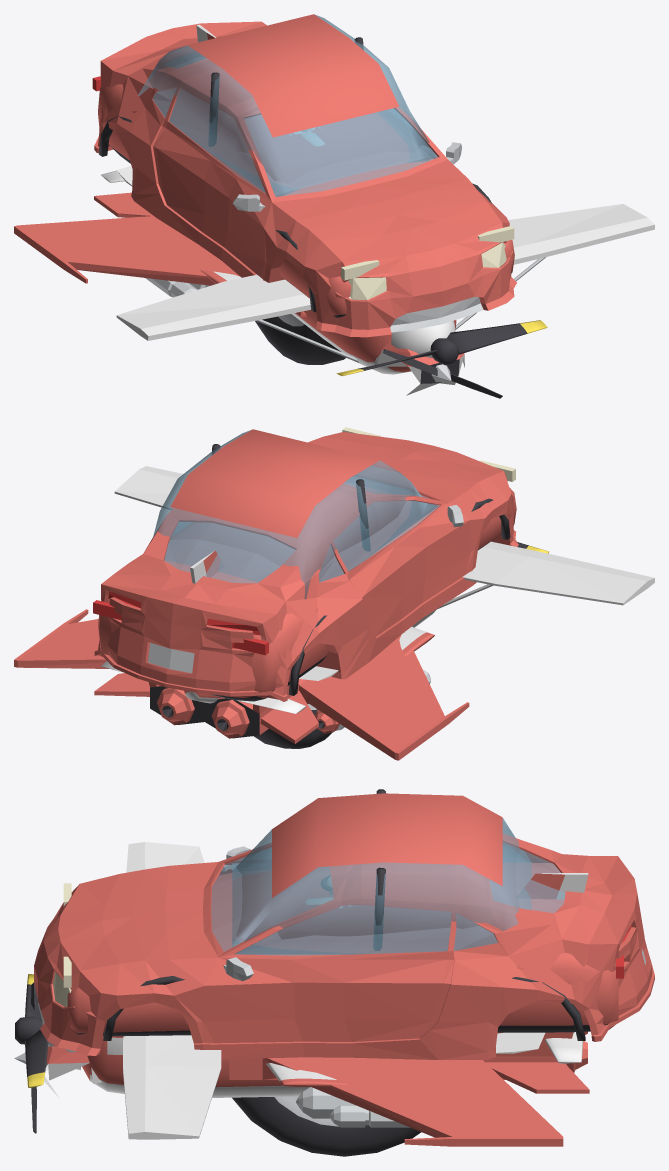
The model's file is models.glb.
3 renders of one model, top to bottom at view 1: azimuth 30°, elevation 25°; view 2: azimuth 150°, elevation 25°; view 3: azimuth 270°, elevation 25°, orthographic. The views are drawn at different scales.
Parts seen in each view (by area): view 1: CarBody, CCabin, CBody, JWingL, P6WingL, P6WingR, Prop, Wheel, P6Body, Body, Nose, P6Prop; view 2: CarBody, CCabin, CBody, JWingL, P6WingL, JWingR, JBody, P6WingR, Wheel, P6Body, HStab, WingL; view 3: CarBody, CCabin, CBody, JWingR, P6WingR, Wheel, Body, P6Body, Prop, P6WingL, WingR, JBody (+1 smaller).
Boxes of the visible parts, x1=… form: CarBody: x1=94, y1=21, x2=516, y2=337; CCabin: x1=138, y1=14, x2=436, y2=196; CBody: x1=92, y1=76, x2=514, y2=317; JWingL: x1=14, y1=192, x2=306, y2=316; P6WingL: x1=116, y1=165, x2=310, y2=340; P6WingR: x1=508, y1=204, x2=654, y2=264; Prop: x1=336, y1=320, x2=547, y2=376; Wheel: x1=255, y1=314, x2=345, y2=364; P6Body: x1=196, y1=24, x2=545, y2=395; Body: x1=291, y1=310, x2=456, y2=374; Nose: x1=391, y1=321, x2=455, y2=357; P6Prop: x1=383, y1=349, x2=502, y2=398; CarBody: x1=94, y1=432, x2=518, y2=701; CCabin: x1=153, y1=429, x2=437, y2=599; CBody: x1=93, y1=427, x2=516, y2=701; JWingL: x1=252, y1=632, x2=469, y2=760; P6WingL: x1=299, y1=541, x2=654, y2=680; JWingR: x1=14, y1=609, x2=156, y2=712; JBody: x1=148, y1=679, x2=306, y2=738; P6WingR: x1=114, y1=466, x2=186, y2=509; Wheel: x1=253, y1=704, x2=331, y2=748; P6Body: x1=190, y1=550, x2=493, y2=609; HStab: x1=101, y1=661, x2=305, y2=713; WingL: x1=399, y1=626, x2=434, y2=656; CarBody: x1=34, y1=833, x2=654, y2=1059; CCabin: x1=232, y1=789, x2=531, y2=954; CBody: x1=63, y1=862, x2=623, y2=1040; JWingR: x1=229, y1=1056, x2=589, y2=1146; P6WingR: x1=123, y1=1032, x2=545, y2=1139; Wheel: x1=232, y1=1096, x2=421, y2=1156; Body: x1=82, y1=1037, x2=309, y2=1097; P6Body: x1=44, y1=873, x2=588, y2=1098; Prop: x1=15, y1=974, x2=48, y2=1087; P6WingL: x1=126, y1=842, x2=204, y2=872; WingR: x1=266, y1=1063, x2=348, y2=1086; JBody: x1=496, y1=1031, x2=587, y2=1072.
Size of the model in its own units: 4.96 by 2.7 by 4.86.
